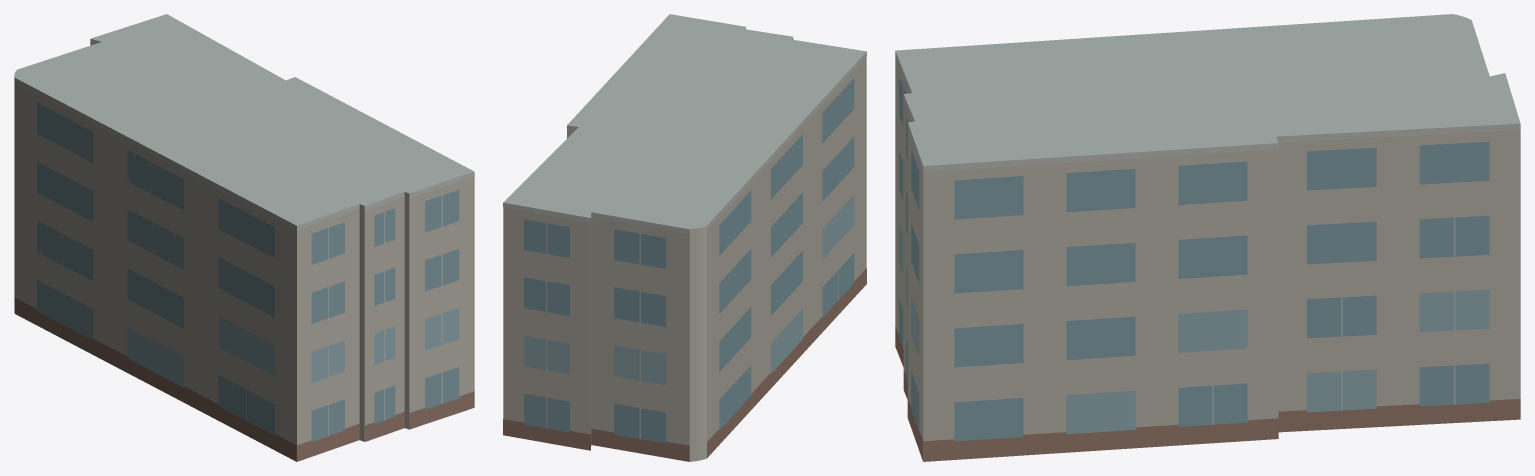
File: survey-upis-32916305.glb
3 views of the same model, side by side, from view 1: azimuth 30°, elevation 25°; view 2: azimuth 150°, elevation 25°; view 3: azimuth 270°, elevation 25° (orthographic). The views are drawn at different scales.
Visible parts, largest first — view 1: survey-upis-32916305.tmp; view 2: survey-upis-32916305.tmp; view 3: survey-upis-32916305.tmp.
Boxes of the visible parts, x1,y1,x2,y2 form: survey-upis-32916305.tmp: (14,14,474,461); survey-upis-32916305.tmp: (503,14,866,461); survey-upis-32916305.tmp: (895,14,1520,461).
Size of the model in its own units: 12.9 by 11.7 by 22.42.
